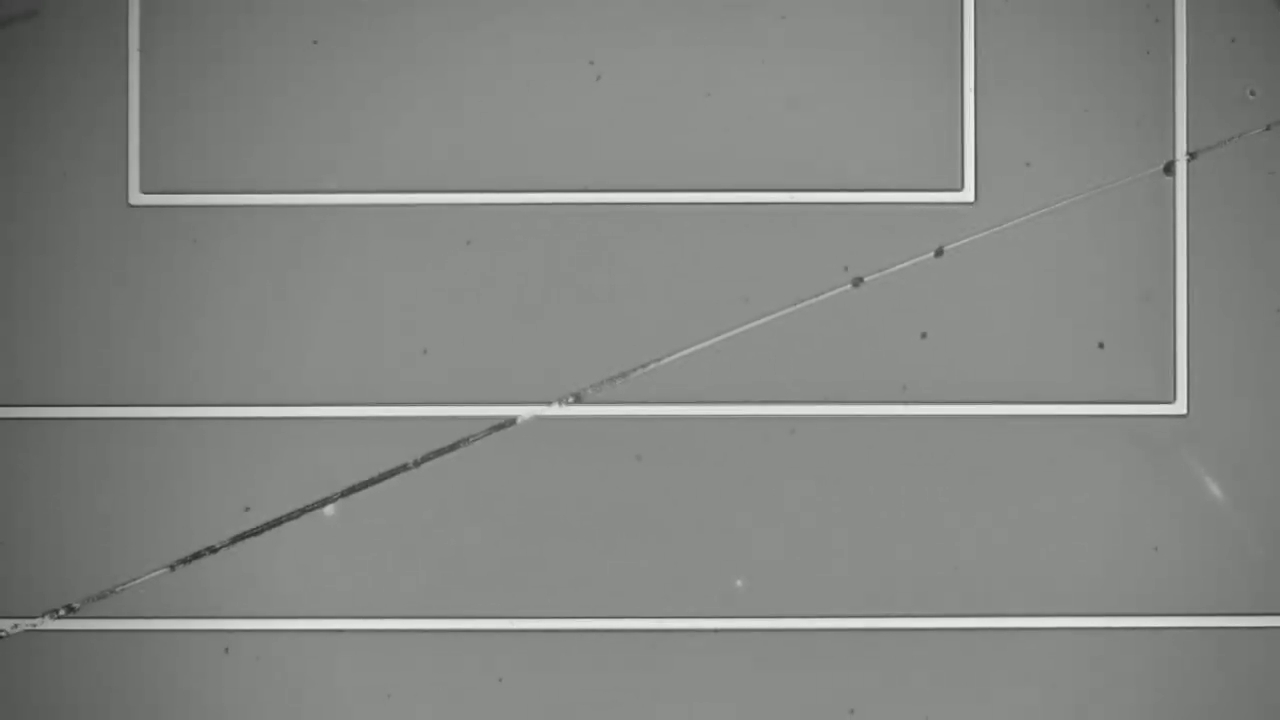scratch: (26, 119, 1275, 627)
